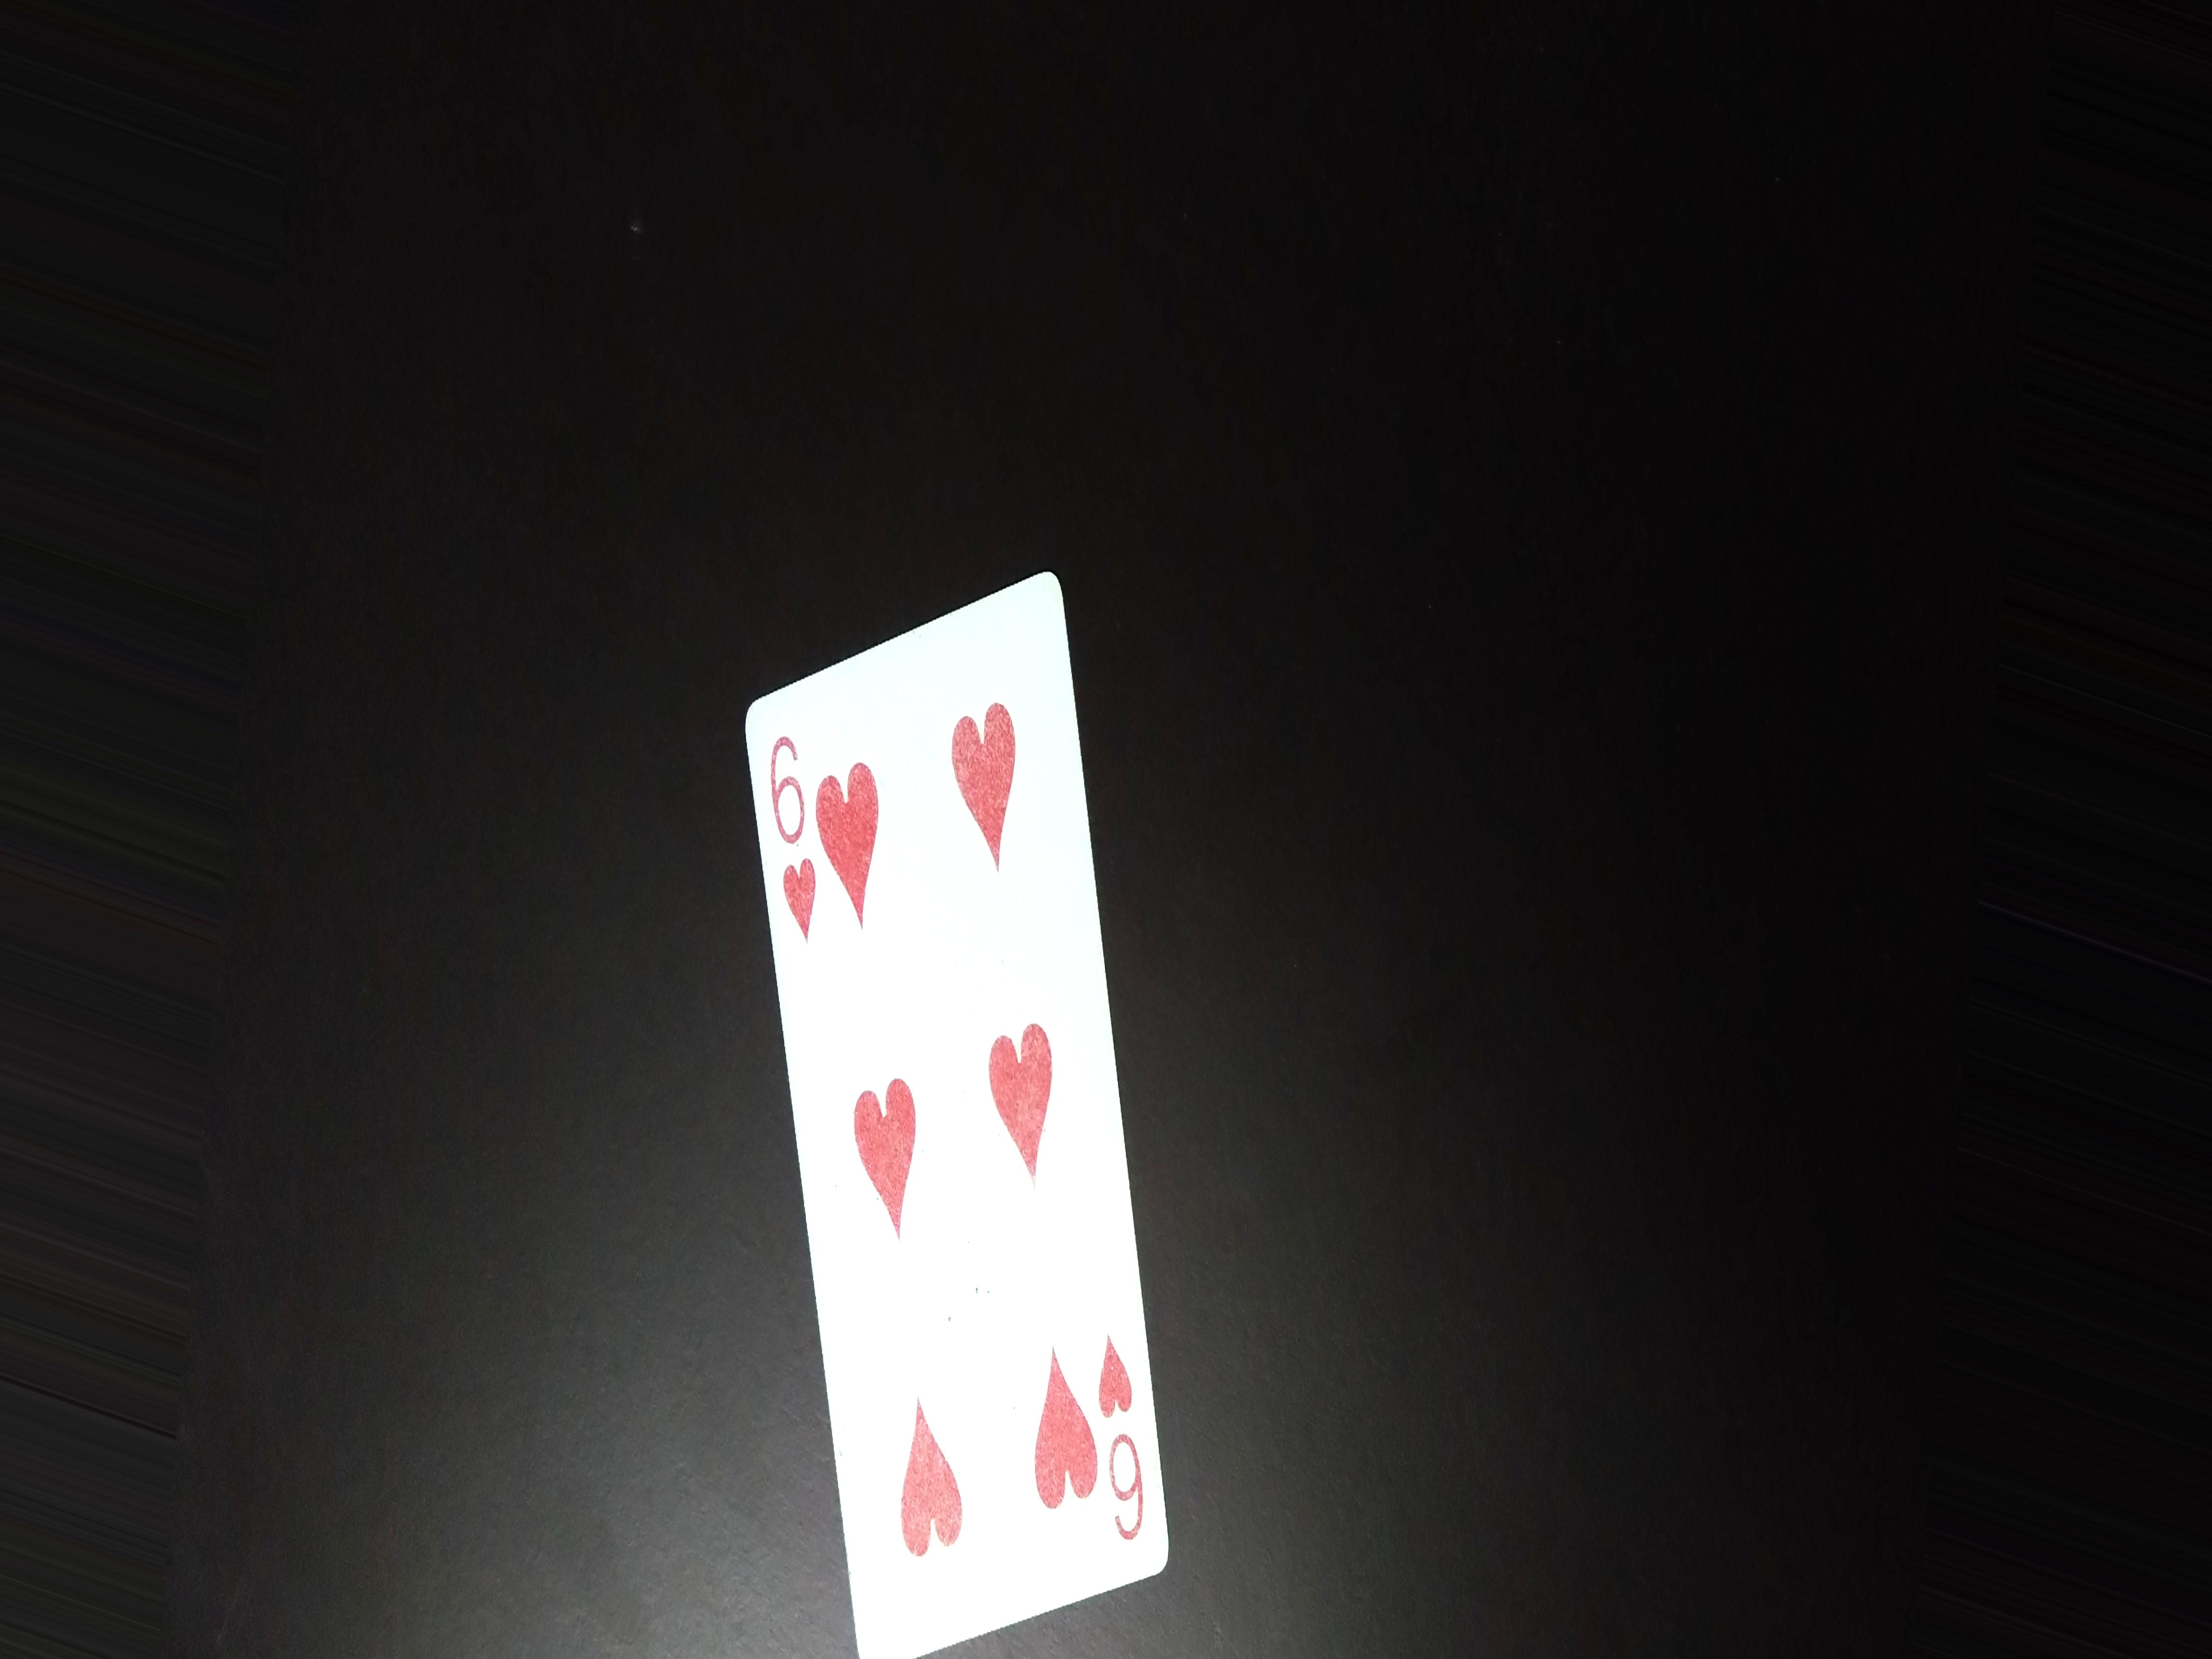6H: (763, 727, 829, 943)
